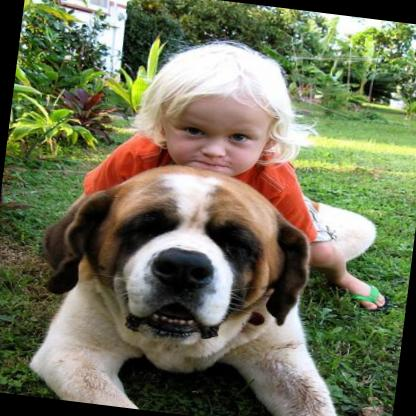Saint_Bernard: (23, 165, 379, 416)
